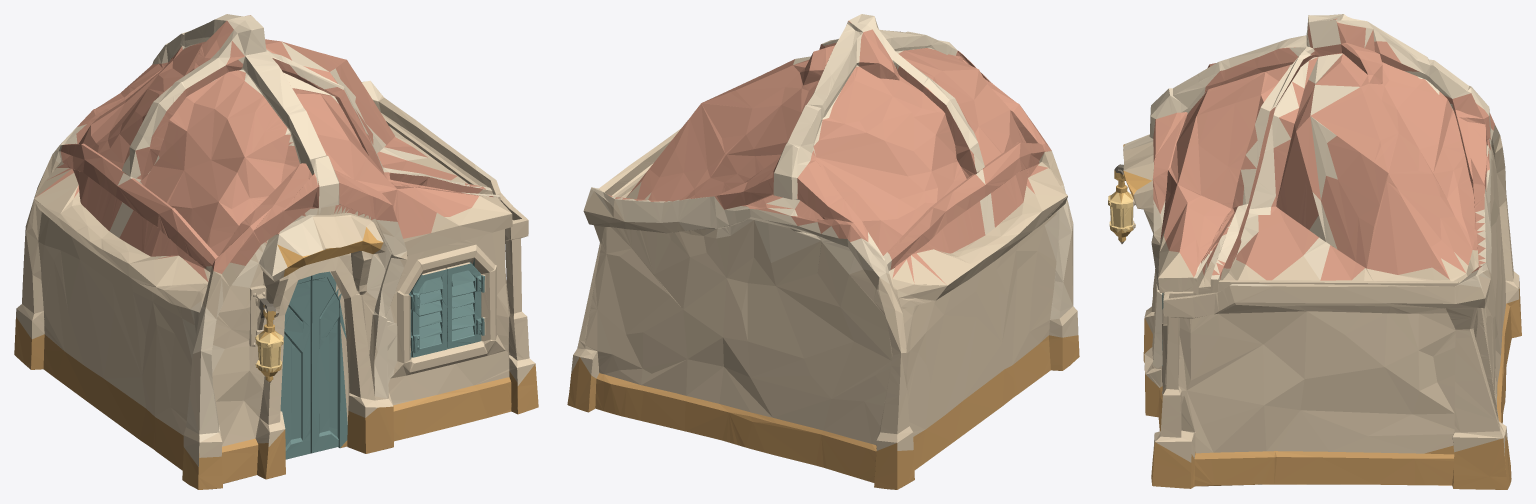
File: maison_quai.glb
The picture shows the model from 3 angles, left to right: view 1: azimuth 30°, elevation 25°; view 2: azimuth 150°, elevation 25°; view 3: azimuth 270°, elevation 25°; orthographic projection.
Parts seen in each view (by area): view 1: Maison quai; view 2: Maison quai; view 3: Maison quai.
Part boxes in pixels (left/top/right/bottom): Maison quai: left=14, top=14, right=538, bottom=489; Maison quai: left=567, top=14, right=1079, bottom=489; Maison quai: left=1108, top=14, right=1521, bottom=489.
Size of the model in its own units: 1 by 1 by 1.
